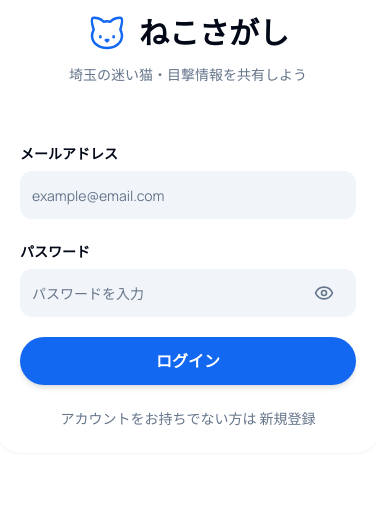
LoginWithAuth › APIがerrorフィールドでエラーメッセージを返した場合それを使用すること
In the field labelled "メールアドレス": (188, 195) top-left (20, 171), bottom-right (356, 219), type "test@example.com"
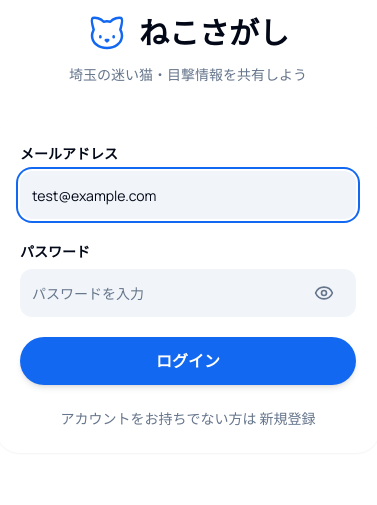
In the password field labelled "パスワード": (188, 293) top-left (20, 269), bottom-right (356, 317), type "wrongpass"
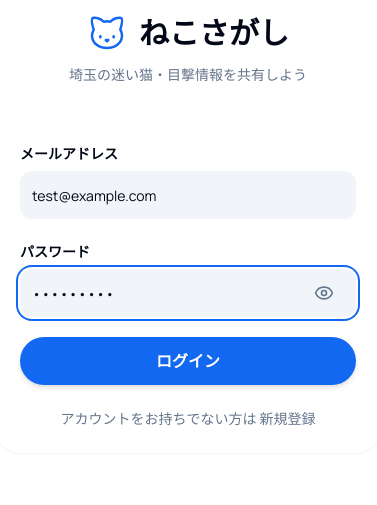
Click the button "ログイン": (188, 361) top-left (20, 337), bottom-right (356, 385)
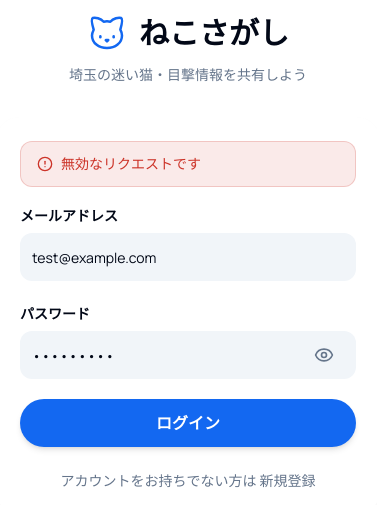
Now the text "無効なリクエストです" is shown, box top-left (61, 154), bottom-right (201, 174)
